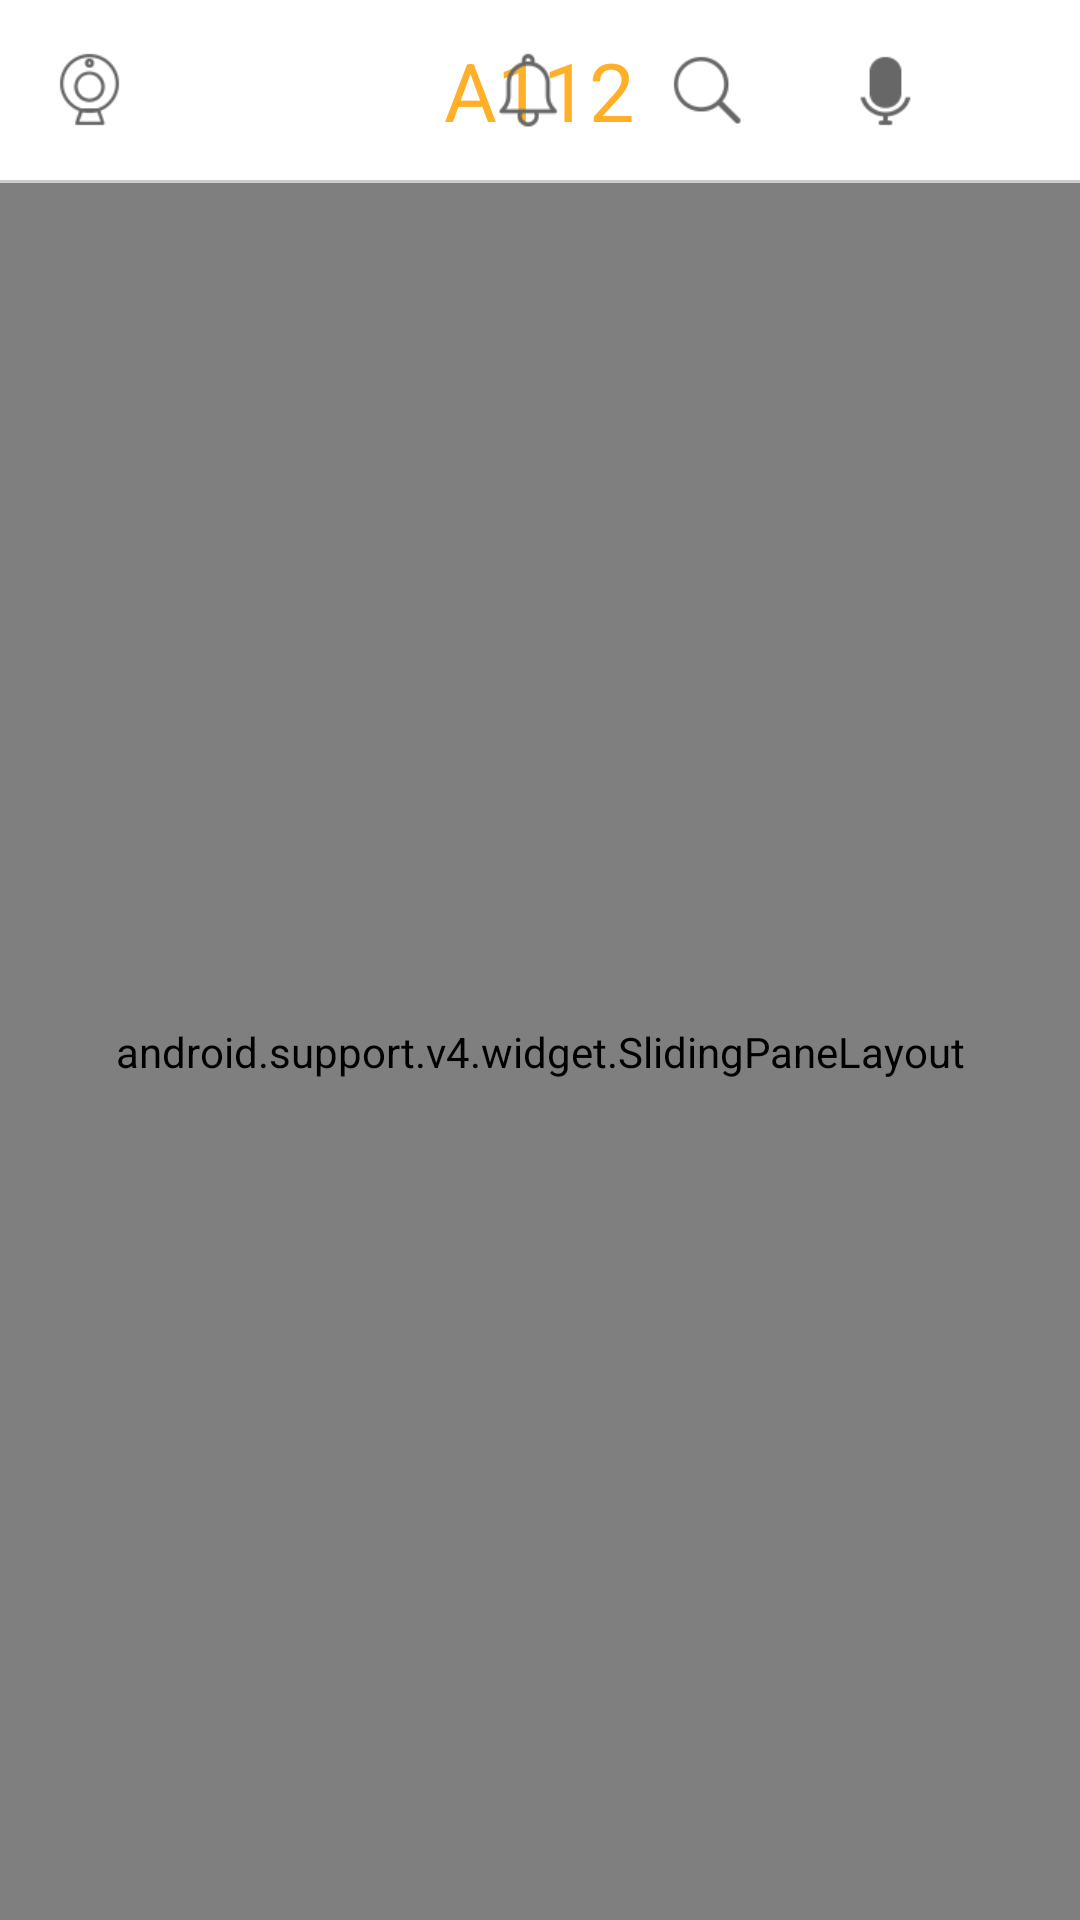

Icon click points for this 1080×1920 phone screenshot, format (x=x, y=y):
search: (x=707, y=90)
voice search: (x=885, y=91)
